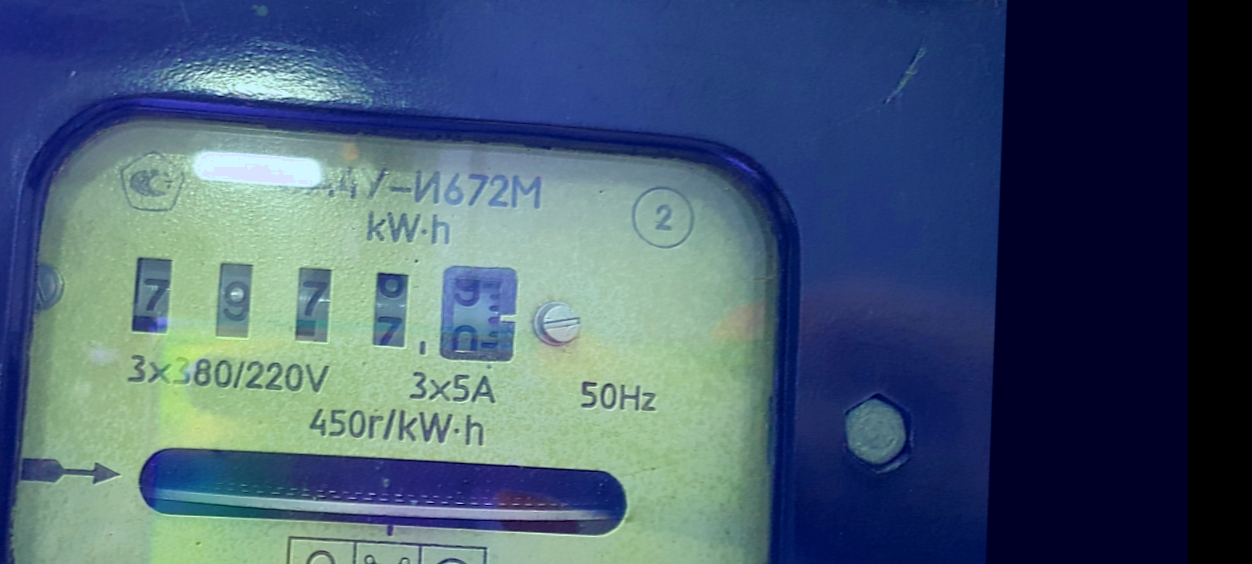0: (448, 320, 482, 359)
7: (298, 277, 330, 321), (139, 275, 171, 318), (373, 313, 405, 350)
9: (219, 278, 254, 325), (452, 272, 484, 309)
screen: (111, 234, 544, 386)
